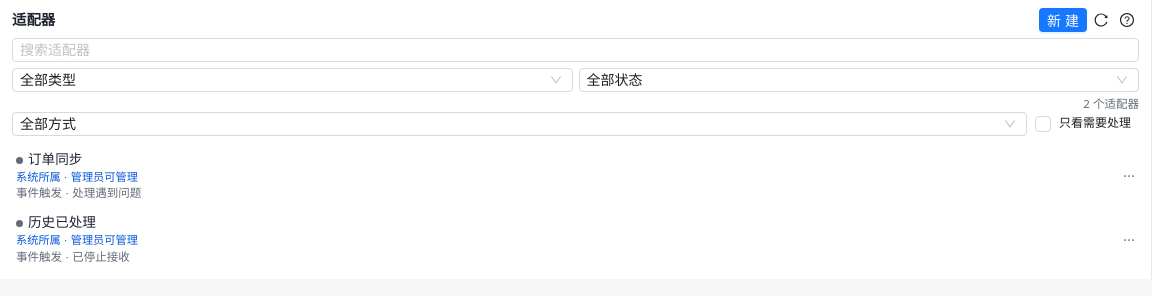
Test: filters current problems inside the original adapter catalog
Click the checkbox labelled "只看需要处理": (1087, 124) [1035,114,1139,133]
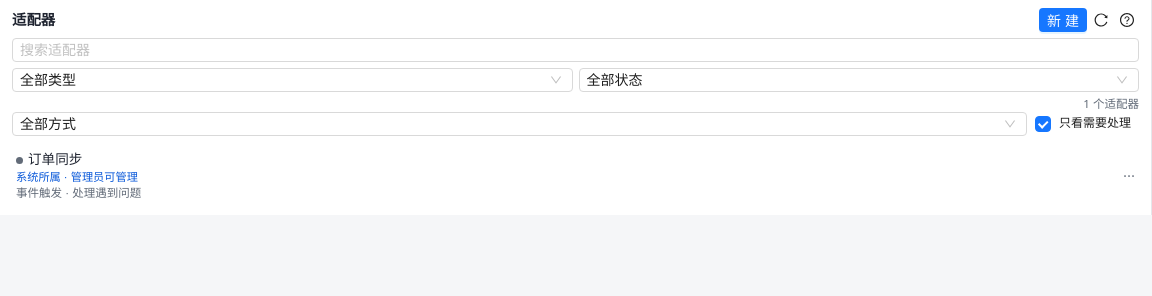
expect the button with test id "adapter-item" shows "订单同步": met, box [8,144,1113,207]
expect the number of buttons with test id "adapter-item" is 1: met, box [8,144,1113,207]
